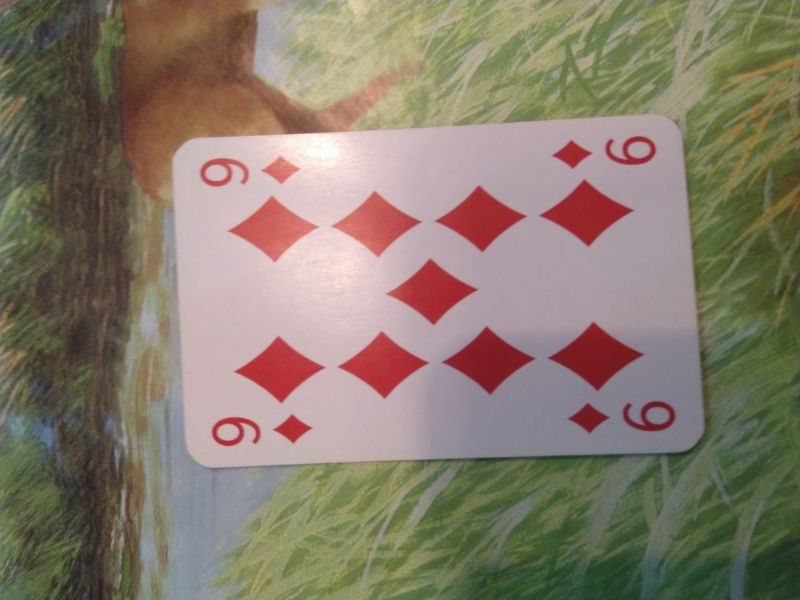9d: (559, 397, 680, 437), (193, 148, 304, 190), (207, 410, 318, 451), (551, 131, 660, 172)
